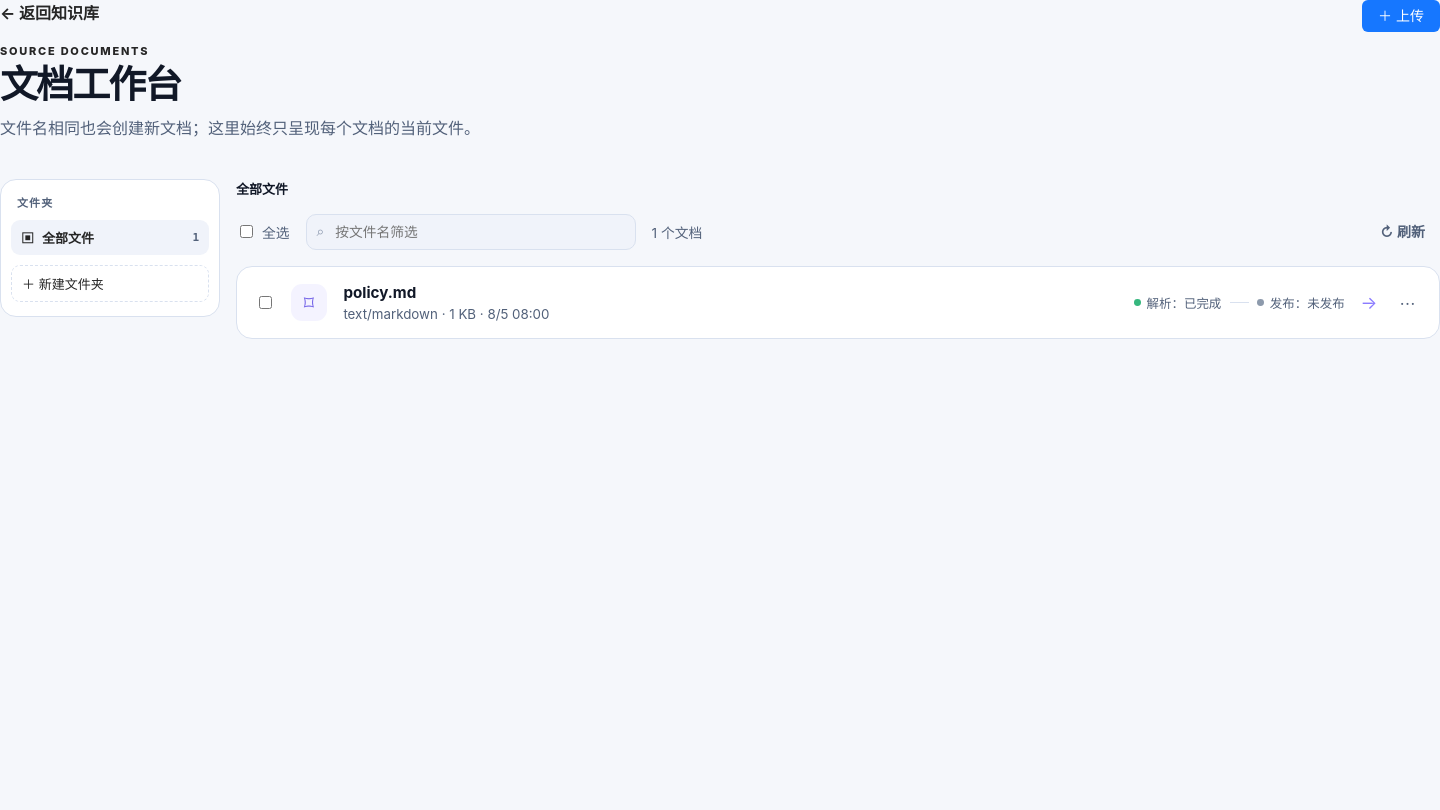
Scenario: DocumentsView › shows batch upload interface with folder selection
Click the button with test id "upload-btn": (1401, 16) [1362,0,1439,32]
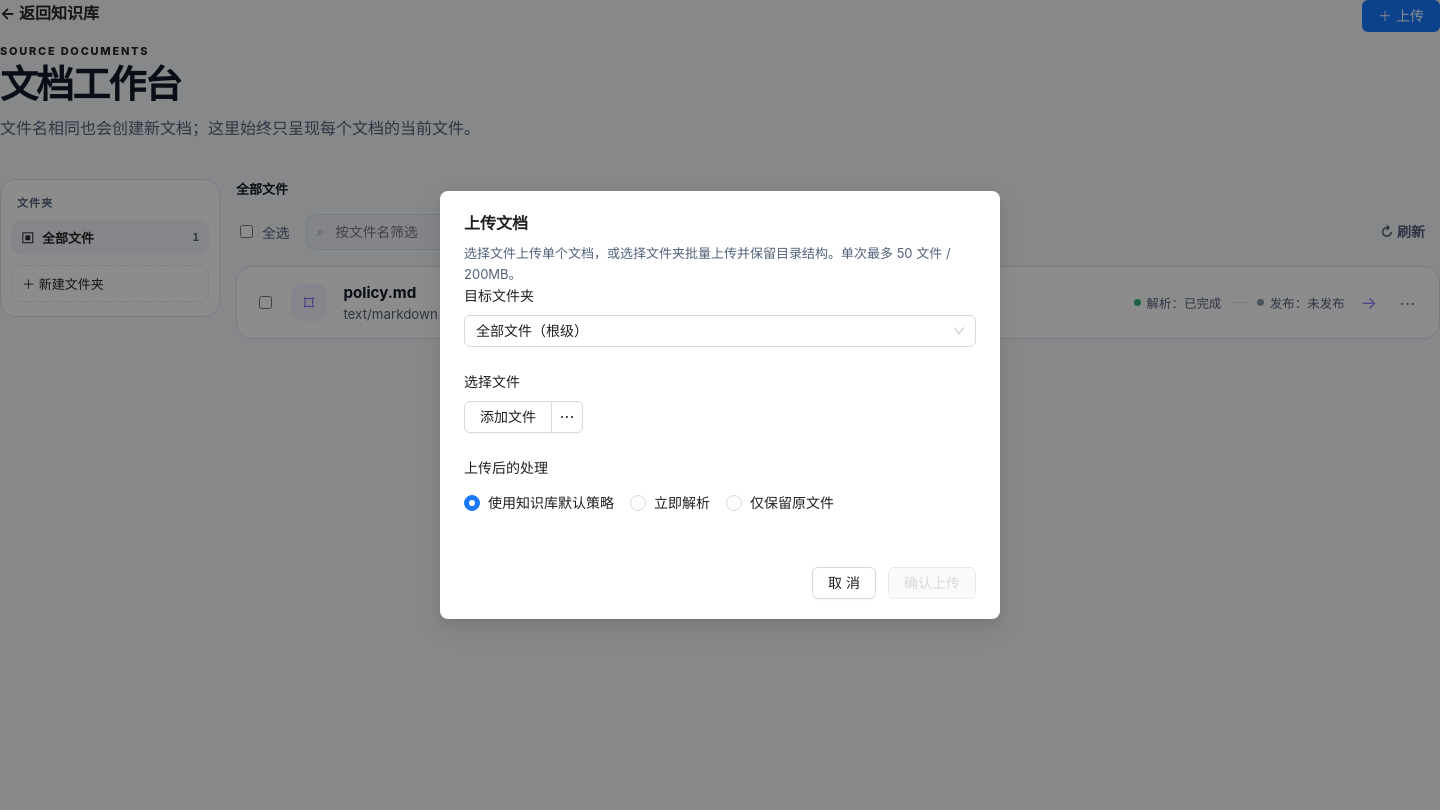
Result: the element with test id "document-folder" is shown at [464,401,583,433]
Result: the text "选择文件" is shown at [464,245,951,282]
Result: the text "选择文件夹" is shown at [464,245,951,282]
